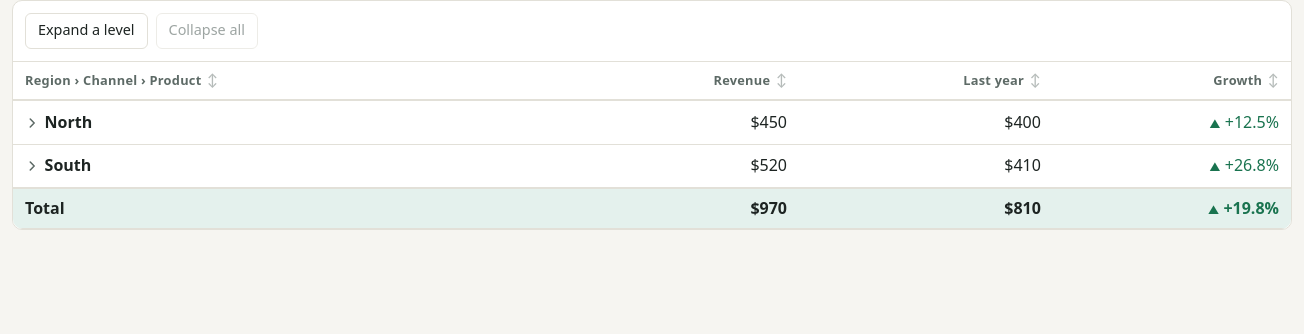
Test: PivotTable › shows the failure in place and recovers when asked to try again
The width and height of the screenshot is (1304, 334).
Click the button "North" at coordinates (59, 123), box left=21, top=109, right=96, bottom=136
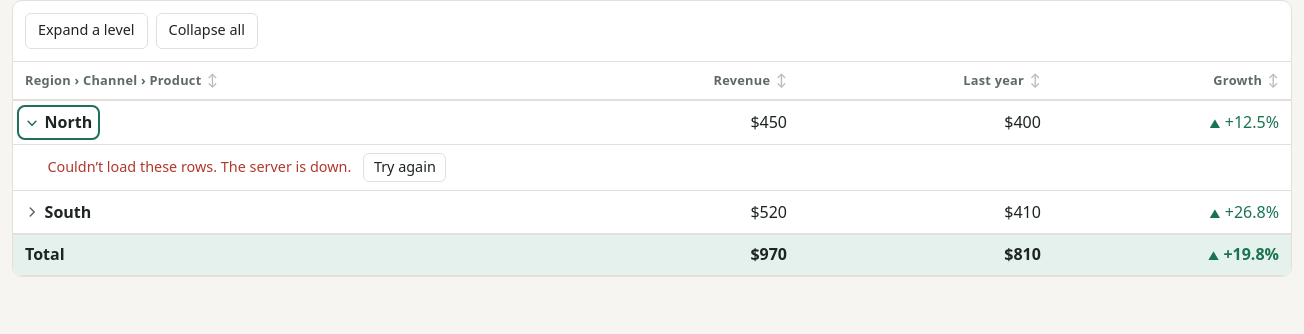
Expected: the message reads "Couldn’t load these rows. The server is down.", left=47, top=157, right=351, bottom=176
Click the button "Try again" at coordinates (405, 167), box left=363, top=153, right=446, bottom=182
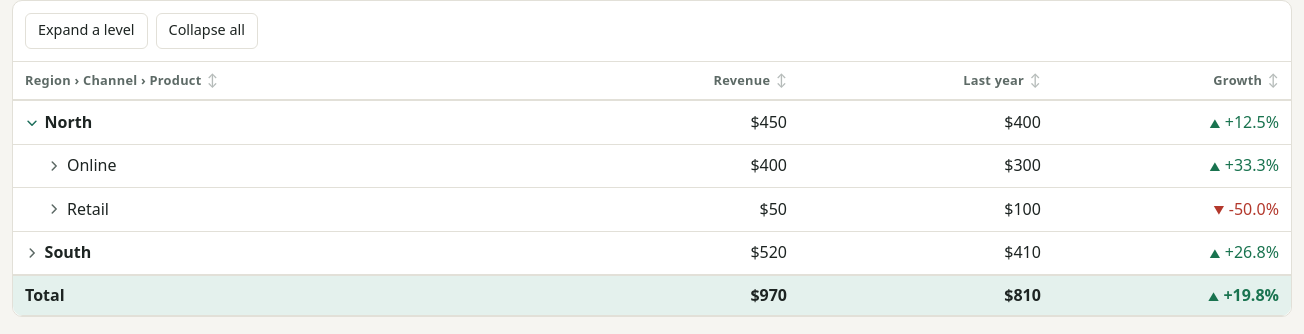
Expected: the button "Online" is shown, left=43, top=153, right=121, bottom=179
Expected: the message "Couldn’t load these rows. The server is down." is gone
